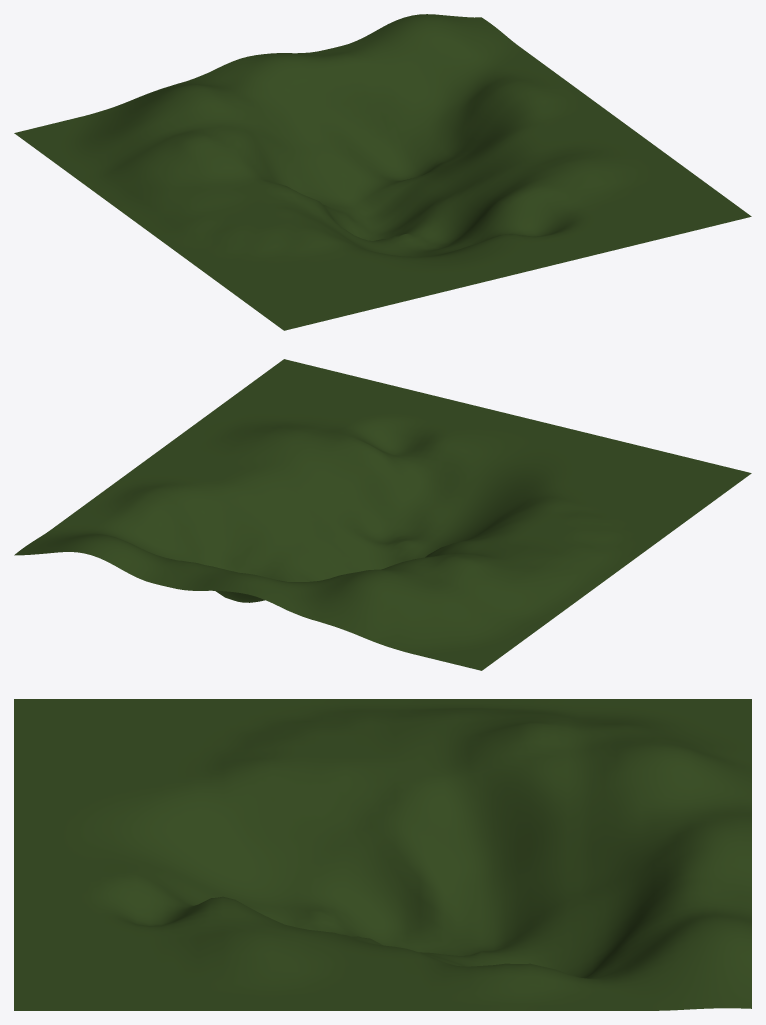
File: multi_tree.gltf
3 renders of one model, top to bottom at view 1: azimuth 30°, elevation 25°; view 2: azimuth 150°, elevation 25°; view 3: azimuth 270°, elevation 25°, orthographic. The views are drawn at different scales.
Parts seen in each view (by area): view 1: Grid; view 2: Grid; view 3: Grid.
Part boxes in pixels (<box>): Grid: <box>14,14,751,330</box>; Grid: <box>14,359,751,670</box>; Grid: <box>14,699,751,1010</box>.
Bounding box in the file's own units: 115 × 23.95 × 115.
